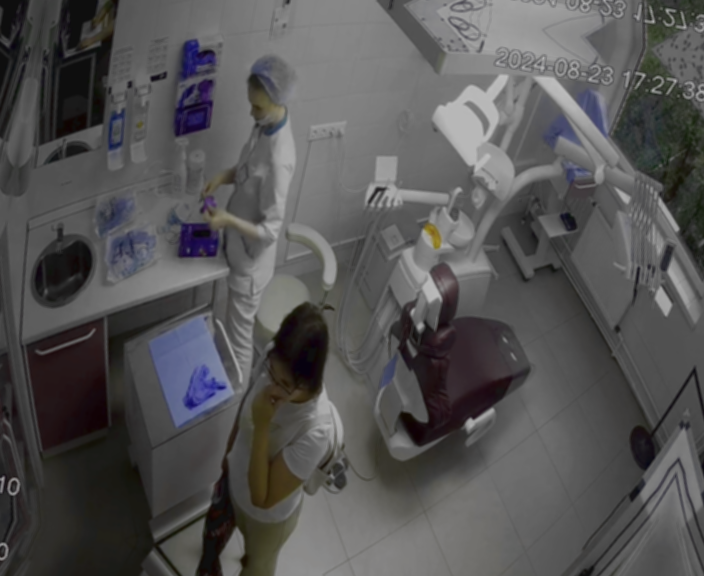Empty: (352, 260, 551, 481)
